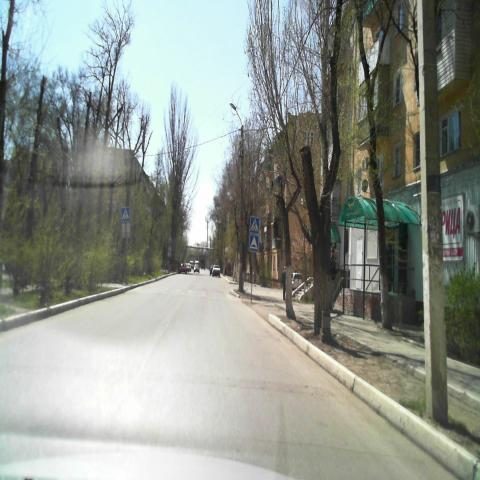5_20: (248, 235, 258, 251)
